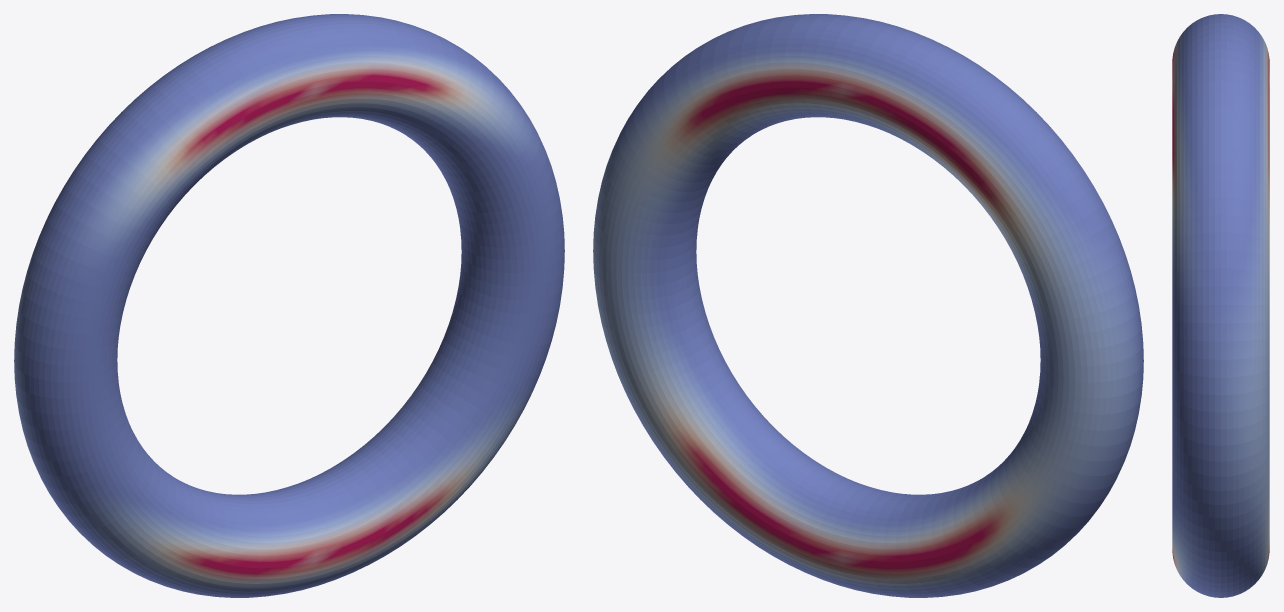
3 views of the same model, side by side, from view 1: azimuth 30°, elevation 25°; view 2: azimuth 150°, elevation 25°; view 3: azimuth 270°, elevation 25° (orthographic). The views are drawn at different scales.
Parts seen in each view (by area): view 1: world; view 2: world; view 3: world.
Boxes of the visible parts, bbox=[...] form: world: bbox=[14, 14, 564, 597]; world: bbox=[593, 14, 1143, 597]; world: bbox=[1172, 14, 1269, 597].
Bounding box in the file's own units: 20 × 20 × 3.33.
